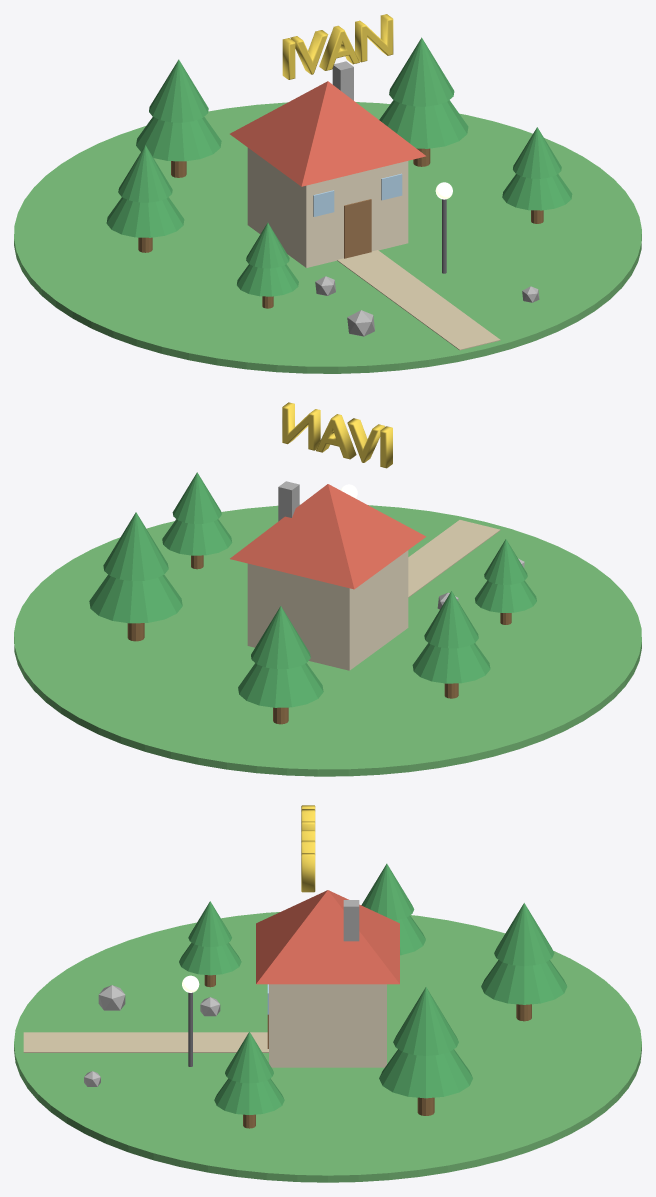
3 views of the same model, one above another, from view 1: azimuth 30°, elevation 25°; view 2: azimuth 150°, elevation 25°; view 3: azimuth 270°, elevation 25° (orthographic).
Visible parts, largest first — view 1: Ground, Roof, House, Path, NameText, TreeLow1, TreeLow4, TreeTop1, TreeLow0, TreeTop4, TreeLow3, TreeTop0 (+6 smaller); view 2: Ground, House, Roof, TreeLow1, NameText, Path, TreeLow4, TreeTop1, TreeLow0, TreeTop4, TreeLow3, TreeTop0 (+4 smaller); view 3: Ground, Roof, House, Path, TreeLow1, TreeLow4, TreeTop1, TreeTop4, TreeLow3, TreeTop0, TreeLow2, TreeTop3 (+5 smaller).
Part boxes in pixels (x1,y1,x2,y2): Ground: (14,102,641,373); Roof: (230,81,425,186); House: (247,147,408,267); Path: (337,250,500,350); NameText: (282,14,393,79); TreeLow1: (379,100,468,148); TreeLow4: (136,117,221,161); TreeTop1: (389,37,454,106); TreeLow0: (106,197,184,237); TreeTop4: (149,59,208,122); TreeLow3: (502,174,572,210); TreeTop0: (118,145,172,202); Ground: (14,505,641,776); House: (247,550,408,670); Roof: (230,484,426,589); TreeLow1: (89,574,182,623); NameText: (282,402,392,468); Path: (408,520,500,597); TreeLow4: (238,663,323,707); TreeTop1: (103,512,168,581); TreeLow0: (412,643,490,683); TreeTop4: (251,606,310,669); TreeLow3: (162,519,232,555); TreeTop0: (424,591,478,648); Ground: (14,912,641,1182); Roof: (256,890,399,984); House: (269,984,386,1067); Path: (23,1032,268,1052); TreeLow1: (379,1049,472,1098); TreeLow4: (481,960,567,1004); TreeTop1: (393,987,458,1055); TreeTop4: (494,903,554,966); TreeLow3: (214,1078,284,1114); TreeTop0: (361,863,414,920); TreeLow2: (179,942,241,975); TreeTop3: (225,1031,273,1083).
Size of the model in its own units: 16 by 6.17 by 16.
